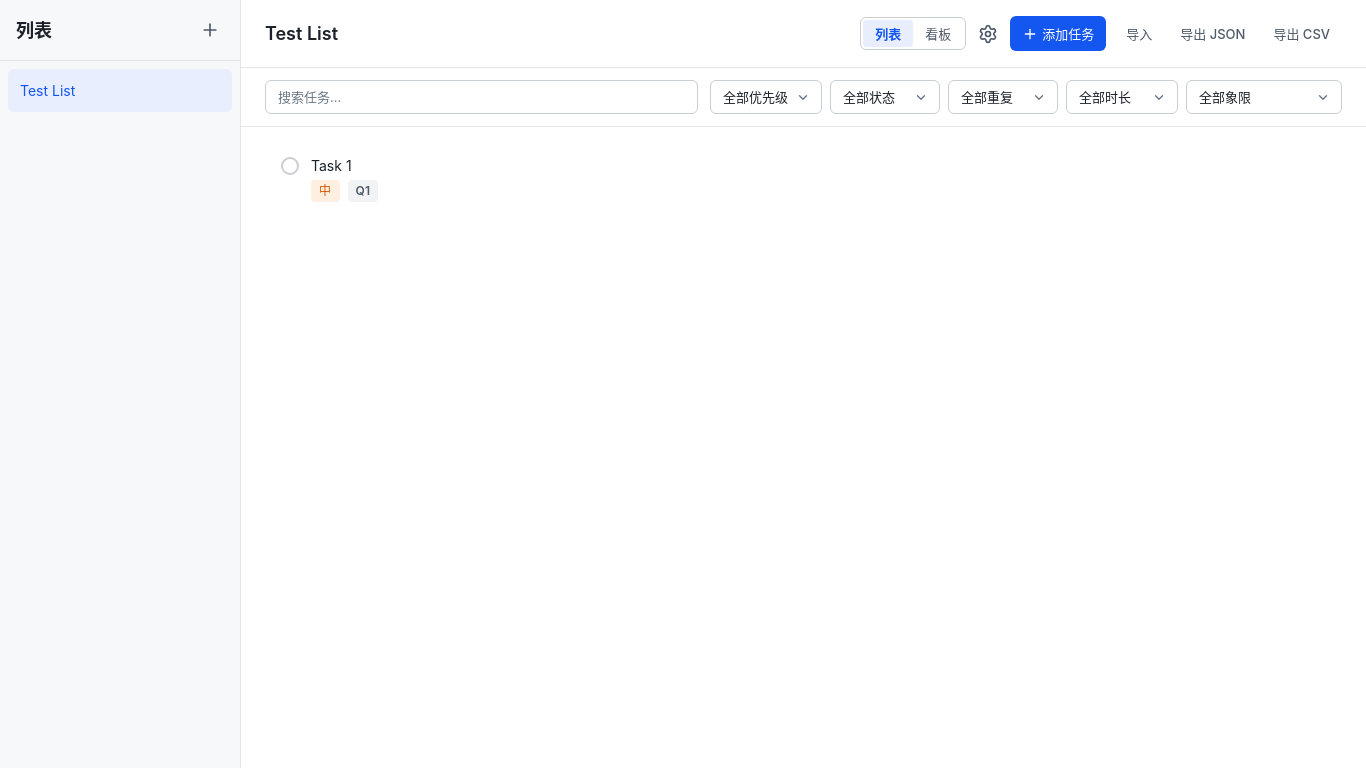
App view toggle › switches to board view when Board button is clicked
Click the button with test id "view-toggle-board" at (938, 34), box x1=913 y1=20 x2=963 y2=47
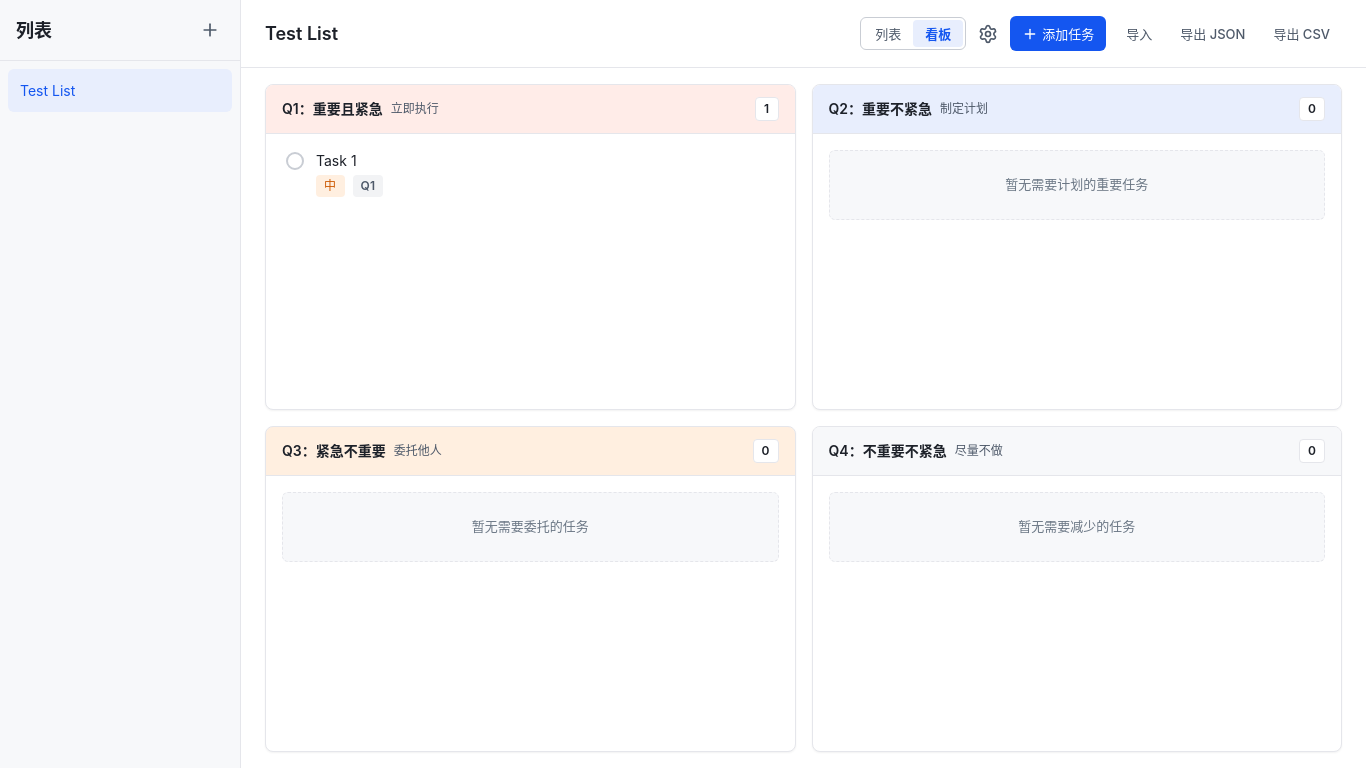
Expected: the element with test id "search-filter-bar" is gone
Expected: the element with test id "quadrant-board" is shown
